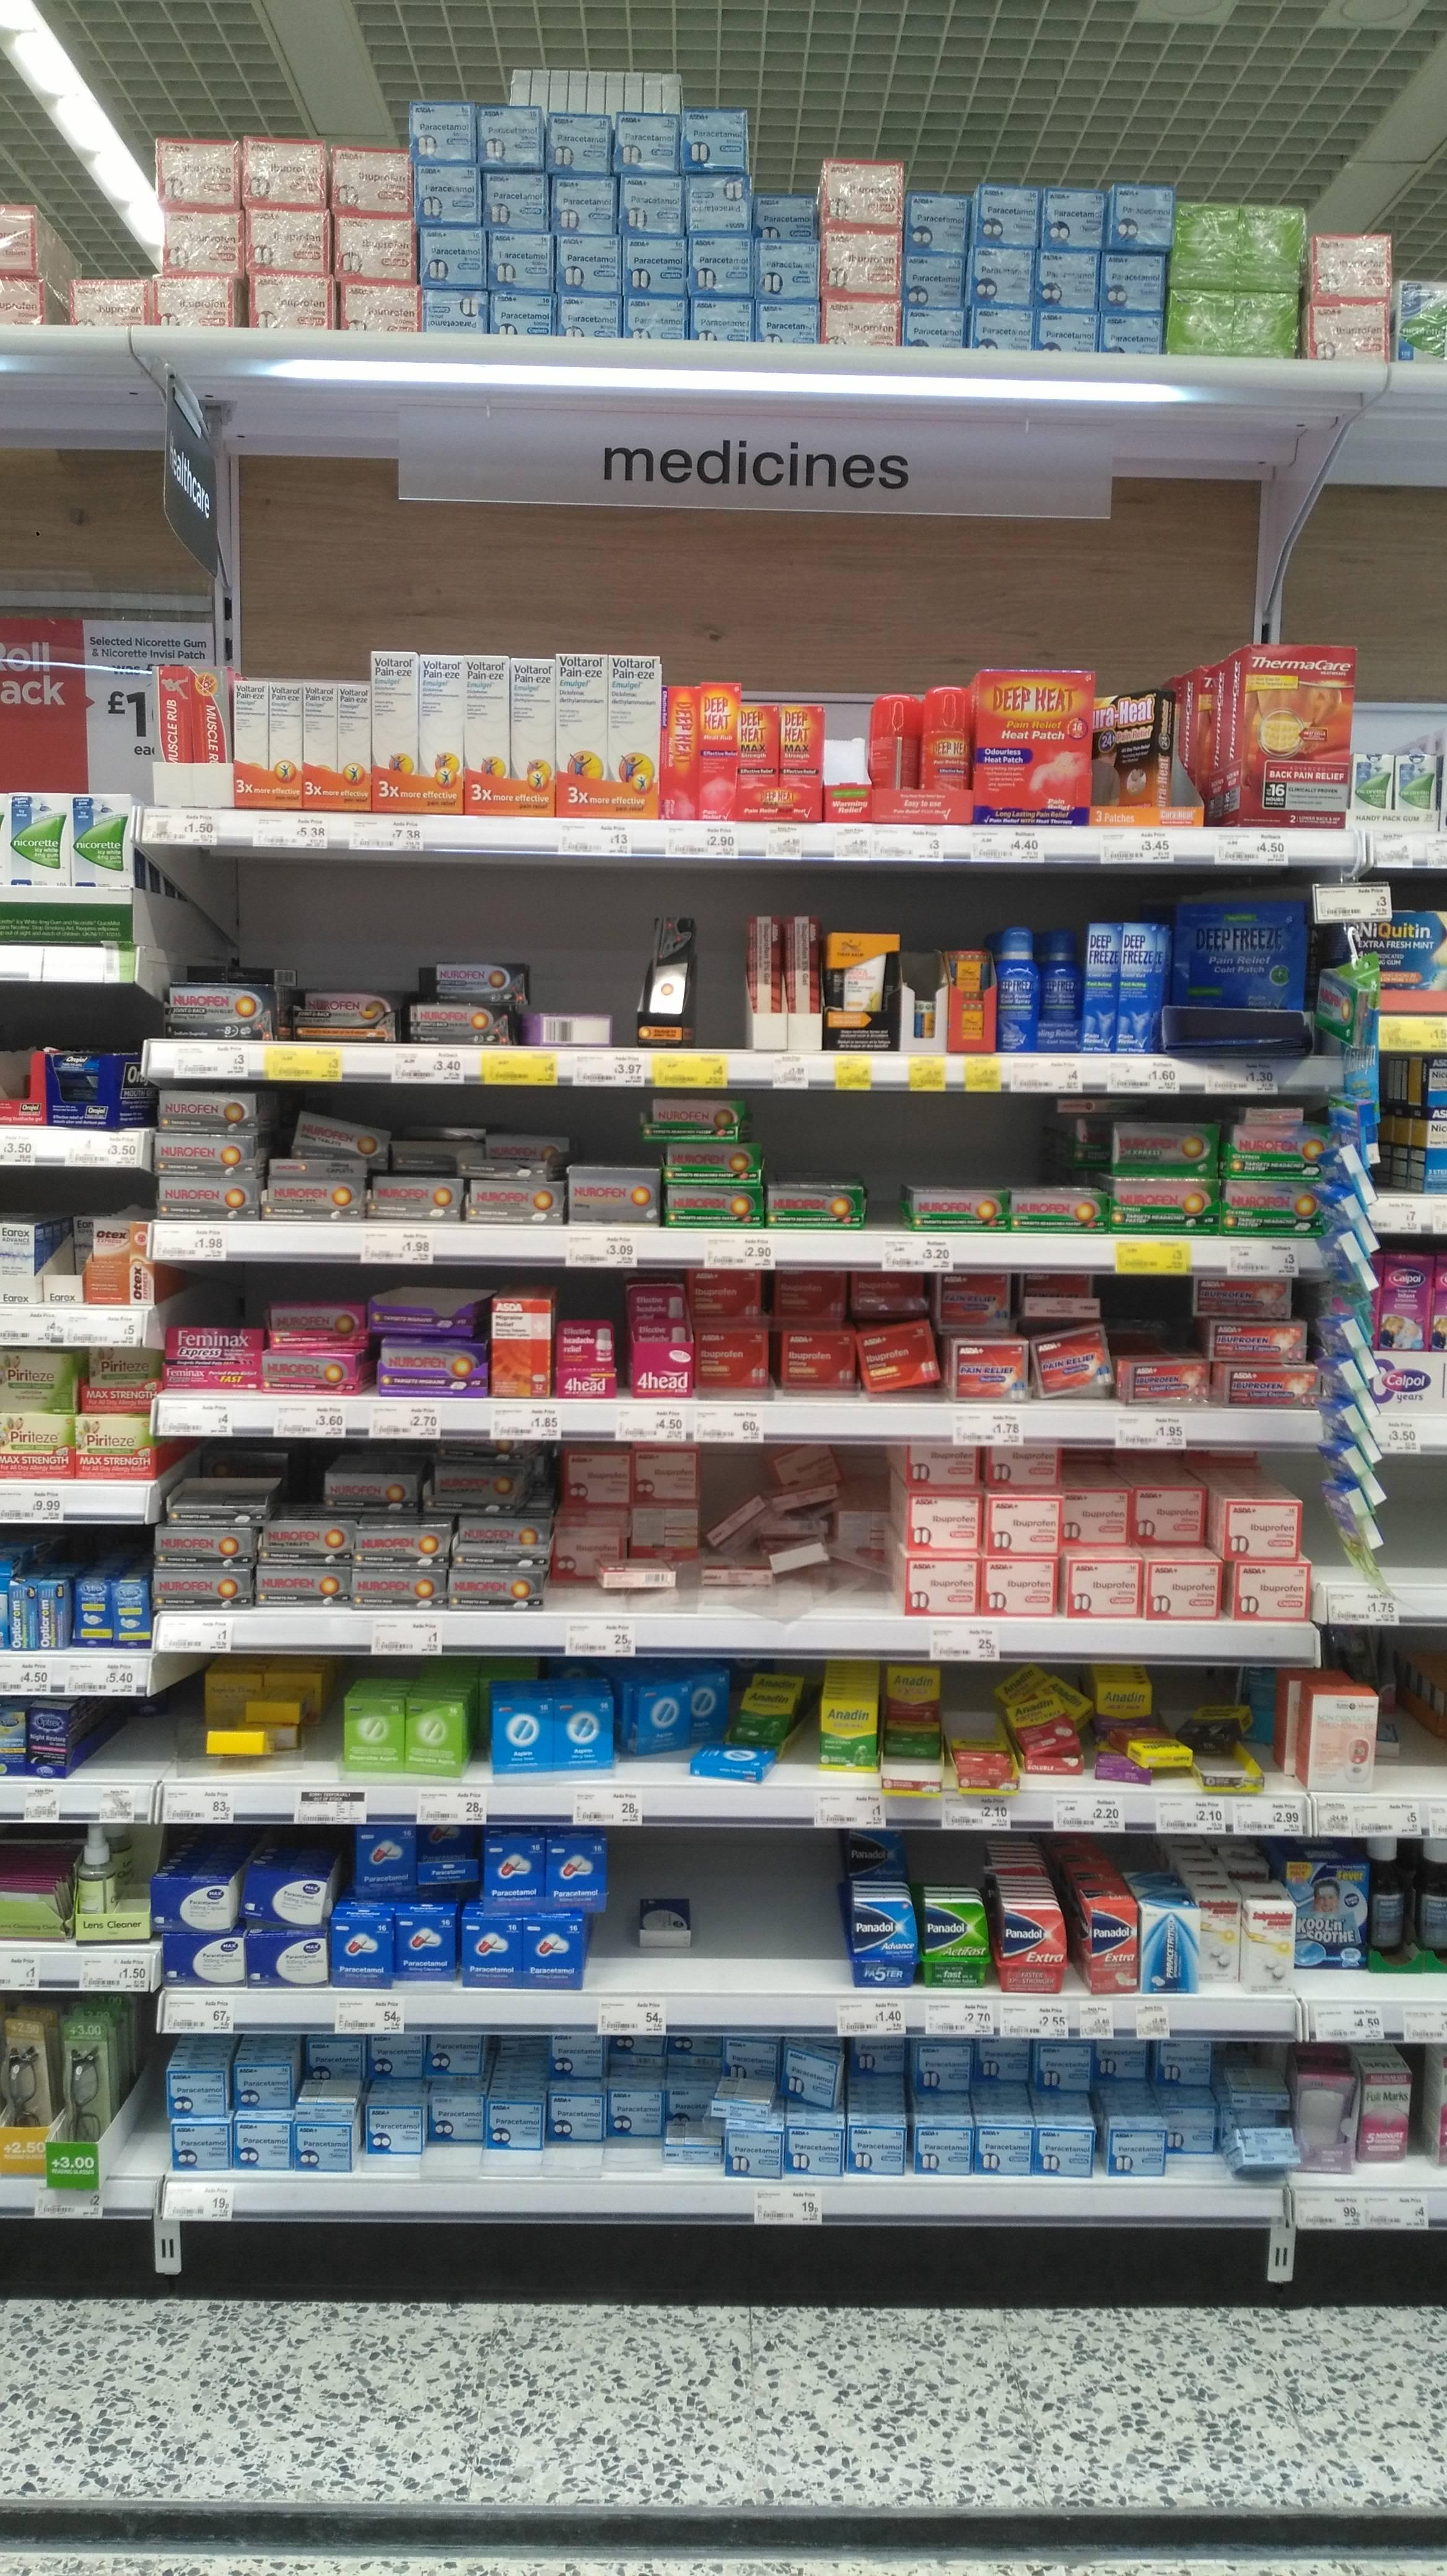empty: (699, 1840, 837, 1990), (126, 1999, 168, 2162), (83, 1698, 165, 1780), (695, 922, 739, 1049), (824, 697, 870, 786)
misalignment: (182, 1661, 817, 1782), (557, 1445, 897, 1617), (350, 1831, 692, 1980), (998, 1672, 1265, 1789), (851, 1290, 1122, 1403), (658, 2033, 846, 2178), (1091, 679, 1189, 803), (1215, 2066, 1304, 2178), (515, 985, 633, 1047)
